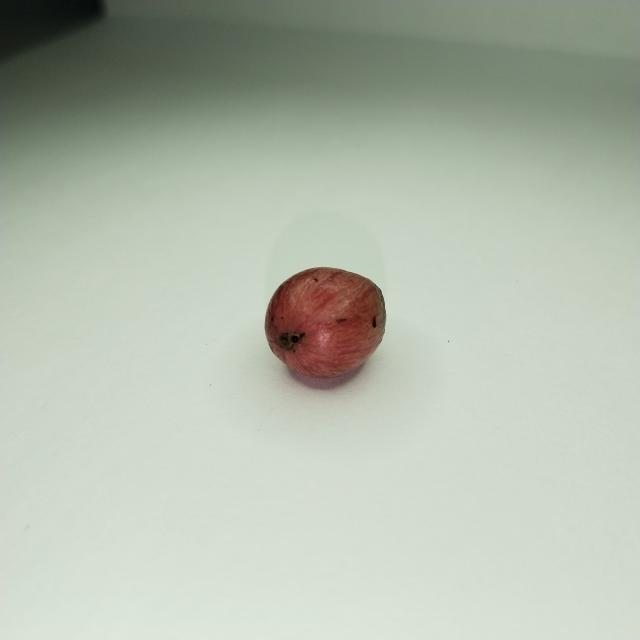Infectado: (265, 268, 386, 379)
